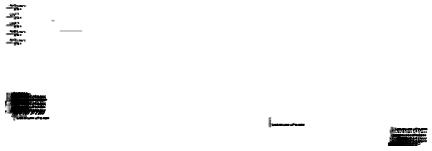corridor: (10, 39, 13, 52)
room: (6, 35, 10, 47), (8, 49, 10, 54)
wall: (4, 113, 14, 113), (4, 122, 14, 122), (4, 132, 14, 132), (4, 141, 14, 141), (13, 151, 14, 151), (12, 151, 12, 151), (4, 150, 14, 150)
